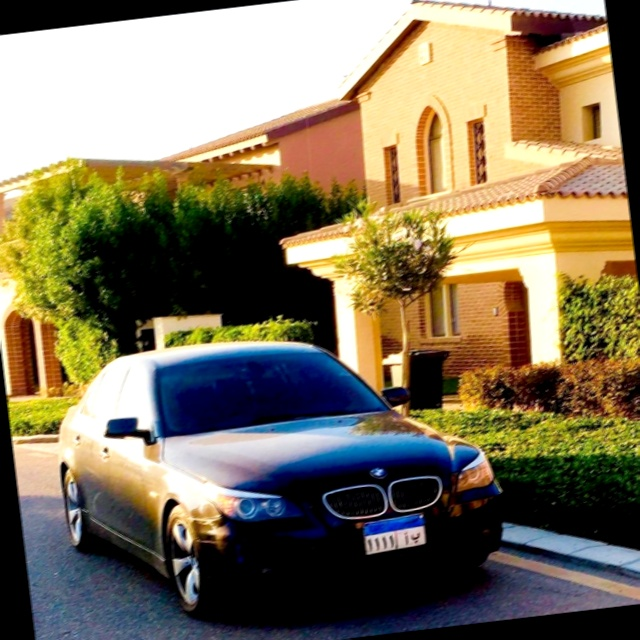License Plate: (360, 513, 428, 557)
